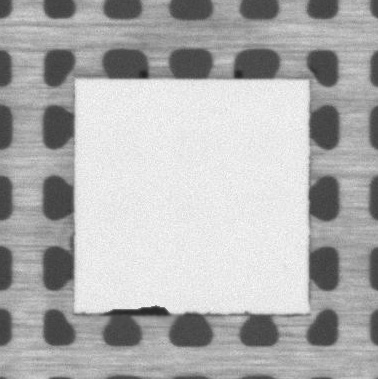DIE_BROKEN: (107, 299, 172, 317)
